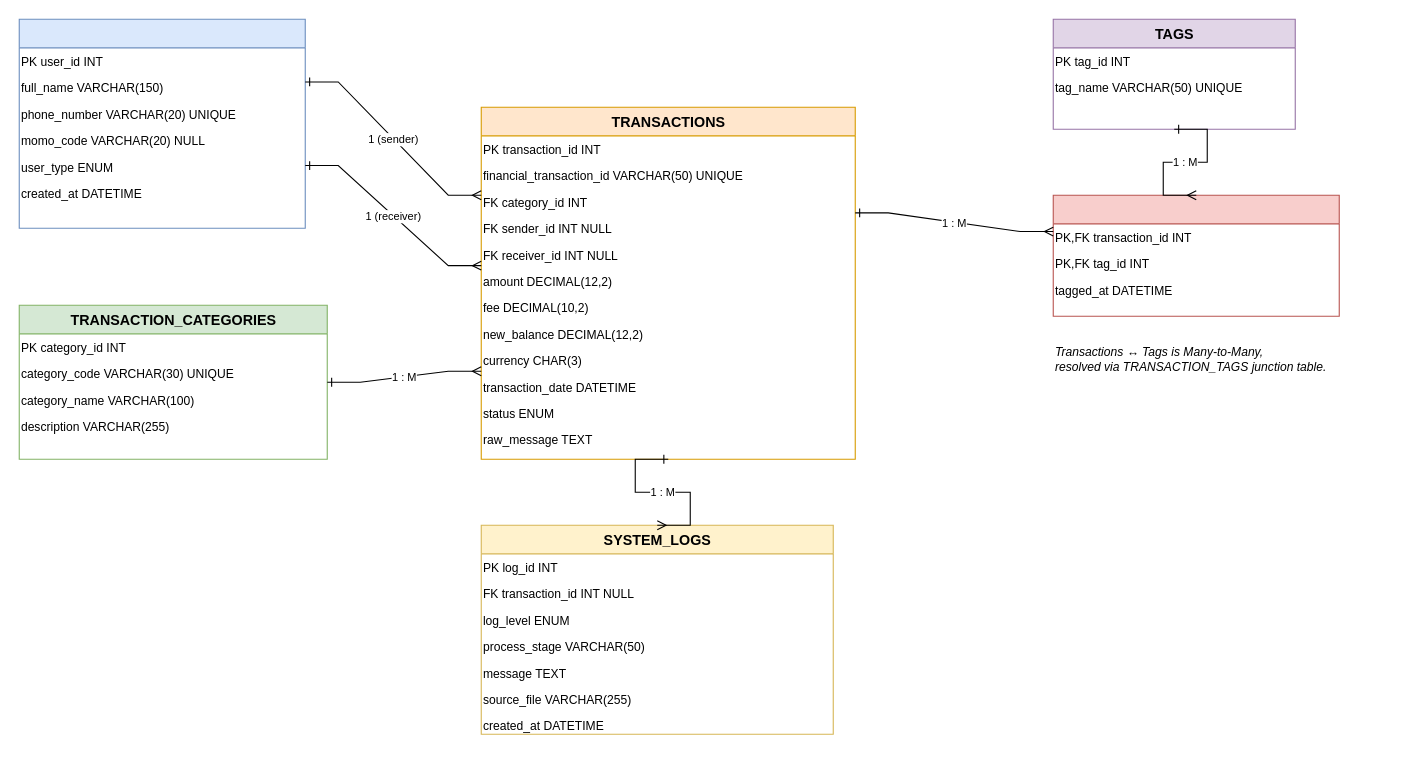
Image size: 1403x758. Some labels were removed from this diagram. The shapes that lost their labels are listed below. From the top down, each one's box as (x1, y1, x2, y2) in pixels, then its label:
(18, 18, 305, 228): USERS
(1052, 194, 1339, 316): TRANSACTION_TAGS (junction)
